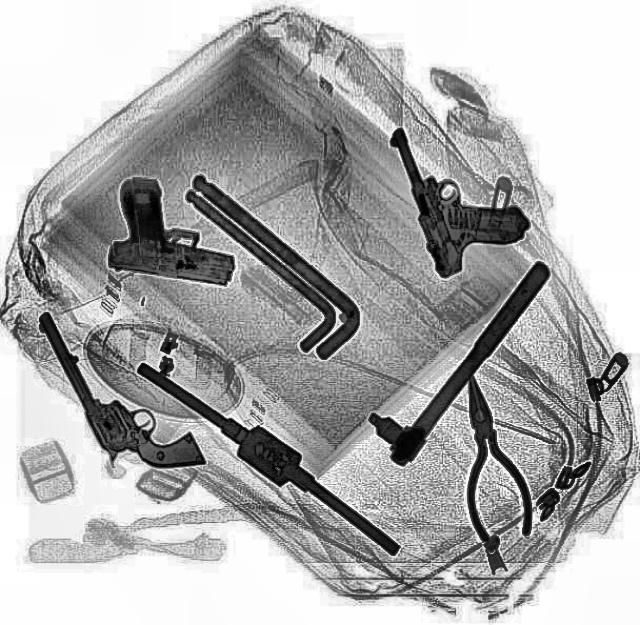Gun: (34, 282, 206, 494), (382, 102, 538, 280), (103, 174, 247, 286)
Pliers: (438, 364, 538, 544)
